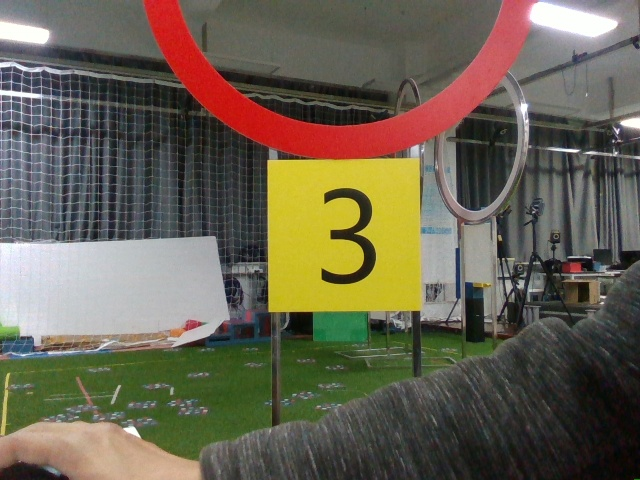target: (261, 158, 422, 312)
